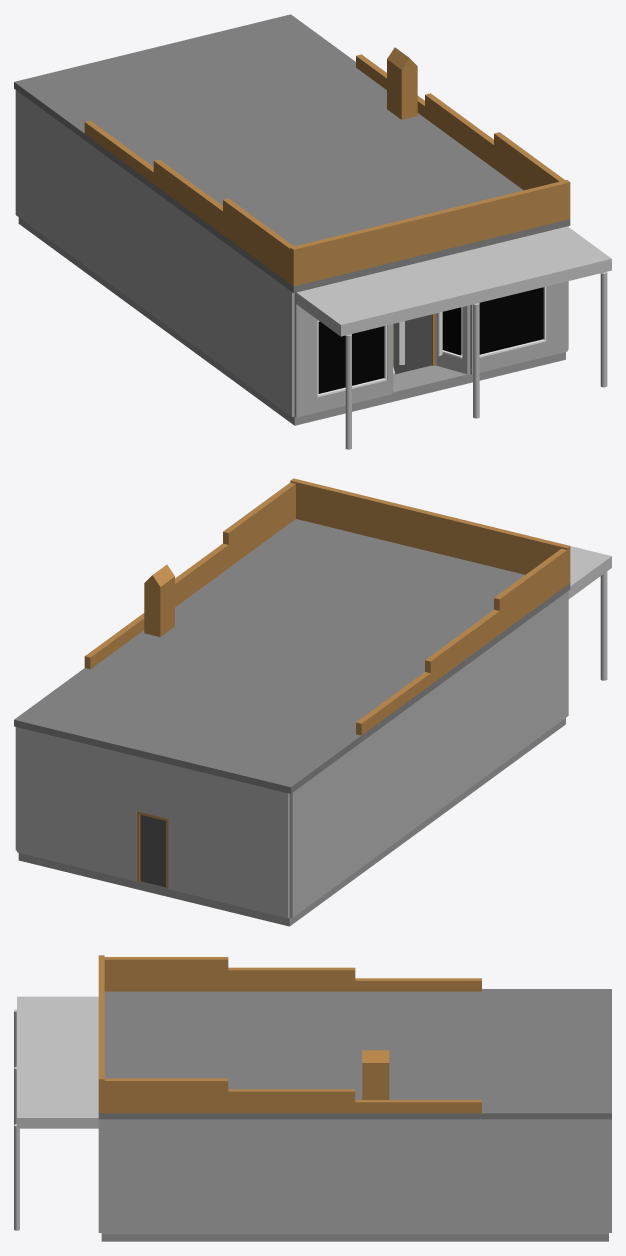
The model's file is building_phase_1b_iter_005.glb.
The picture shows the model from 3 angles, top to bottom: view 1: azimuth 30°, elevation 25°; view 2: azimuth 150°, elevation 25°; view 3: azimuth 270°, elevation 25°; orthographic projection. The views are drawn at different scales.
Parts seen in each view (by area): view 1: Roof, Wall_Left, Canopy_Roof, Parapet_Front, Wall_Front, Foundation, Front_Left_Window_Glass, Front_Right_Window_Glass, Parapet_Left_Level_1, Parapet_Right_Level_1, Parapet_Left_Level_2, Parapet_Right_Level_2 (+10 smaller); view 2: Roof, Wall_Left, Wall_Rear, Parapet_Front, Foundation, Parapet_Left_Level_1, Parapet_Right_Level_1, Parapet_Left_Level_2, Rear_Service_Door_Panel, Parapet_Right_Level_2, Chimney, Canopy_Roof (+3 smaller); view 3: Wall_Right, Roof, Canopy_Roof, Parapet_Right_Level_1, Parapet_Left_Level_1, Foundation, Parapet_Left_Level_2, Parapet_Right_Level_2, Parapet_Left_Level_3, Parapet_Right_Level_3, Parapet_Front, Chimney (+2 smaller).
Boxes of the visible parts, bbox=[...] form: Roof: bbox=[14, 14, 570, 293]; Wall_Left: bbox=[15, 90, 294, 416]; Canopy_Roof: bbox=[296, 226, 611, 336]; Parapet_Front: bbox=[290, 180, 570, 286]; Wall_Front: bbox=[294, 281, 567, 417]; Foundation: bbox=[18, 217, 565, 425]; Front_Left_Window_Glass: bbox=[318, 321, 384, 393]; Front_Right_Window_Glass: bbox=[479, 287, 543, 354]; Parapet_Left_Level_1: bbox=[223, 198, 293, 283]; Parapet_Right_Level_1: bbox=[494, 132, 564, 190]; Parapet_Left_Level_2: bbox=[153, 159, 222, 234]; Parapet_Right_Level_2: bbox=[425, 93, 493, 168]; Roof: bbox=[14, 519, 570, 793]; Wall_Left: bbox=[289, 591, 568, 917]; Wall_Rear: bbox=[17, 727, 289, 918]; Parapet_Front: bbox=[290, 478, 570, 584]; Foundation: bbox=[18, 718, 565, 926]; Parapet_Left_Level_1: bbox=[494, 548, 567, 633]; Parapet_Right_Level_1: bbox=[223, 482, 295, 567]; Parapet_Left_Level_2: bbox=[425, 609, 499, 684]; Rear_Service_Door_Panel: bbox=[140, 815, 165, 887]; Parapet_Right_Level_2: bbox=[175, 543, 228, 606]; Chimney: bbox=[144, 576, 174, 636]; Canopy_Roof: bbox=[568, 546, 611, 598]; Wall_Right: bbox=[101, 1119, 608, 1234]; Roof: bbox=[98, 989, 611, 1119]; Canopy_Roof: bbox=[17, 996, 101, 1128]; Parapet_Right_Level_1: bbox=[101, 1078, 228, 1113]; Parapet_Left_Level_1: bbox=[104, 957, 228, 991]; Foundation: bbox=[101, 1234, 608, 1241]; Parapet_Left_Level_2: bbox=[228, 967, 355, 991]; Parapet_Right_Level_2: bbox=[228, 1089, 355, 1113]; Parapet_Left_Level_3: bbox=[355, 978, 481, 991]; Parapet_Right_Level_3: bbox=[355, 1100, 481, 1113]; Parapet_Front: bbox=[98, 955, 104, 1113]; Chimney: bbox=[362, 1063, 389, 1099].
Bounding box in the file's own units: 8.68 × 6.03 × 17.68.
